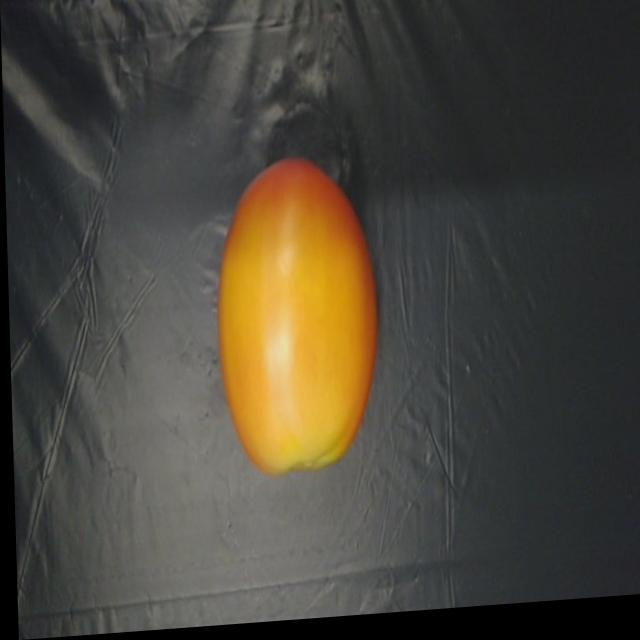sari: (212, 131, 386, 502)
